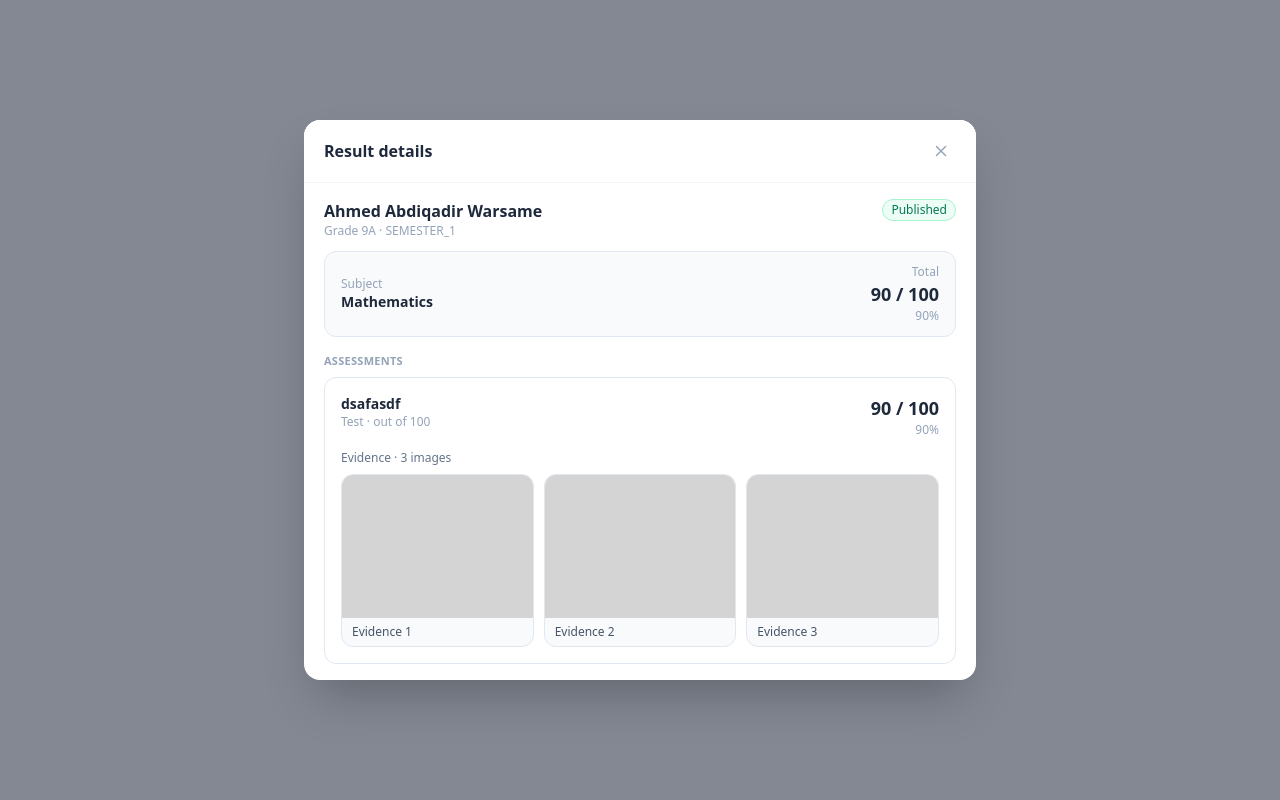
Scenario: Evidence viewer downloads (images, never a PDF) › offers Download this image and Download all, and Previous/Next with the image count
Click the button with aria-label "Open evidence 1 of 3" at (437, 561), box [341,474,534,647]
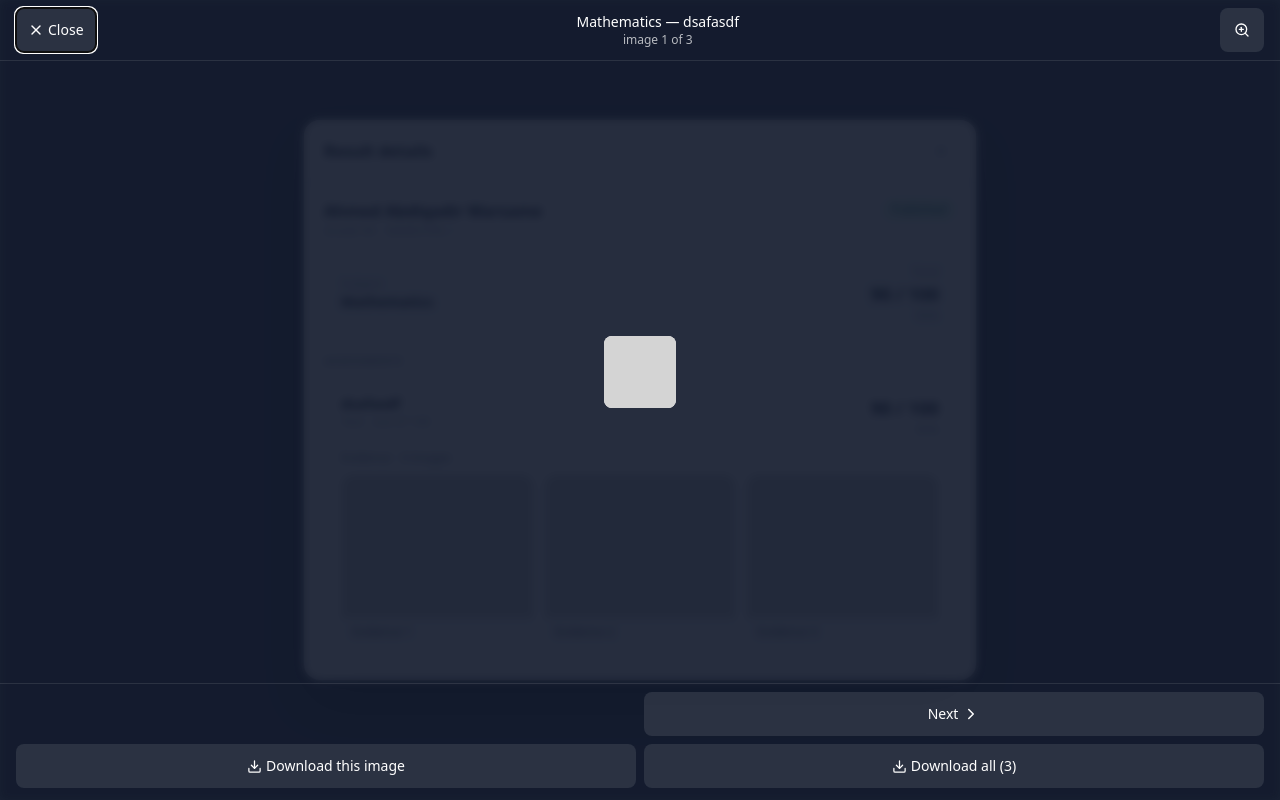
Check: the text "image 1 of 3" is shown, box [623,31,693,48]
Check: the button "Download this image" is shown, box [16,744,636,788]
Check: the button "Download all (3)" is shown, box [644,744,1264,788]
